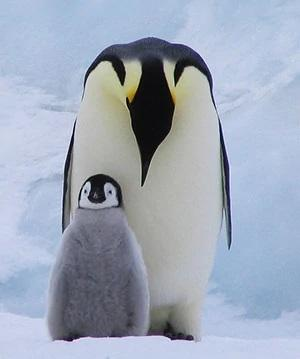emporer: (41, 32, 255, 349)
